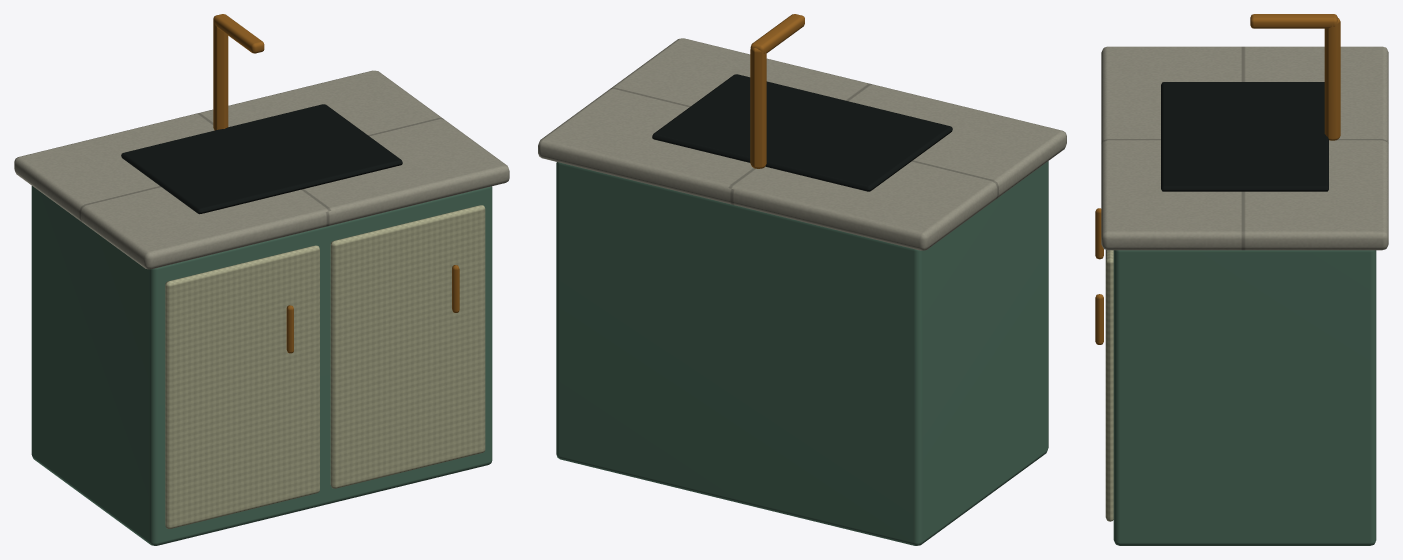
File: sink.glb
3 views of the same model, side by side, from view 1: azimuth 30°, elevation 25°; view 2: azimuth 150°, elevation 25°; view 3: azimuth 270°, elevation 25° (orthographic). The views are drawn at different scales.
Visible parts, largest first — view 1: V2_sink_cloth.005, V2_sink_sage.005, V2_sink_stone.005, V2_sink_metal.005, V2_sink_brass.005; view 2: V2_sink_sage.005, V2_sink_stone.005, V2_sink_metal.005, V2_sink_brass.005; view 3: V2_sink_sage.005, V2_sink_stone.005, V2_sink_metal.005, V2_sink_brass.005, V2_sink_cloth.005.
Part boxes in pixels (<box>): V2_sink_cloth.005: <box>165,205,485,528</box>; V2_sink_sage.005: <box>31,186,492,545</box>; V2_sink_stone.005: <box>14,70,509,269</box>; V2_sink_metal.005: <box>121,104,402,214</box>; V2_sink_brass.005: <box>213,14,459,353</box>; V2_sink_sage.005: <box>556,161,1048,545</box>; V2_sink_stone.005: <box>538,38,1066,250</box>; V2_sink_metal.005: <box>652,74,952,191</box>; V2_sink_brass.005: <box>750,14,804,168</box>; V2_sink_sage.005: <box>1113,250,1376,545</box>; V2_sink_stone.005: <box>1101,46,1388,250</box>; V2_sink_metal.005: <box>1161,82,1328,191</box>; V2_sink_brass.005: <box>1095,14,1340,344</box>; V2_sink_cloth.005: <box>1105,250,1113,521</box>.
Size of the model in its own units: 1.28 by 1.4 by 0.8375.
Materials: 5 (2 with a texture image).
